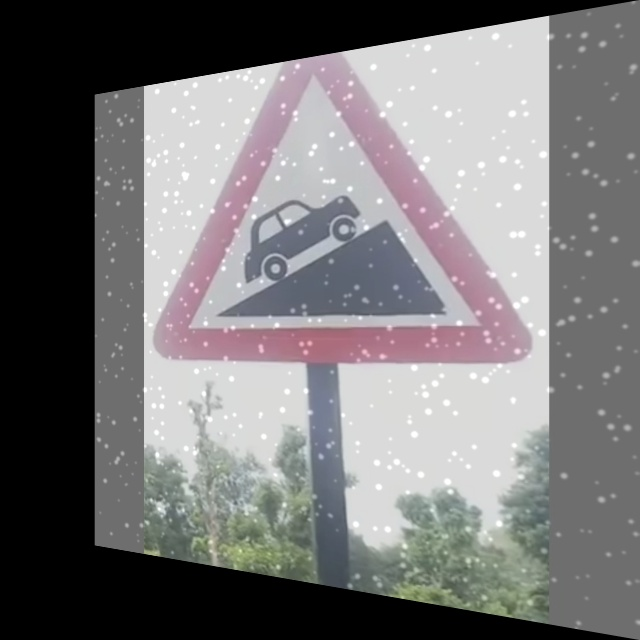Steep_Ascent: (180, 67, 487, 354)
